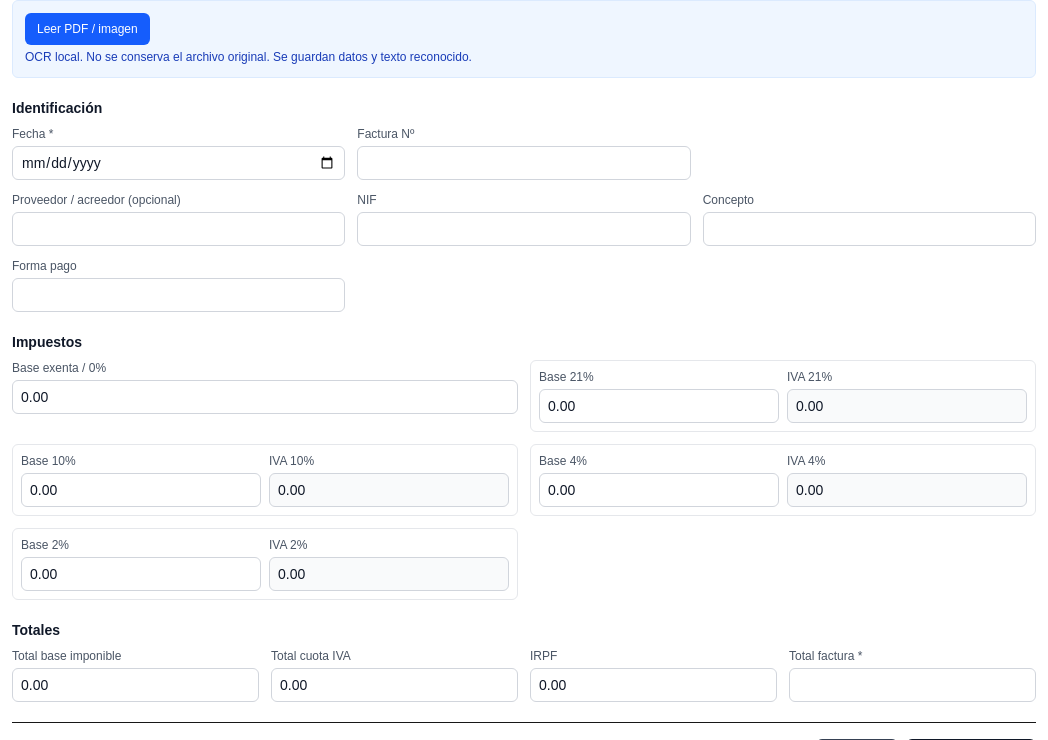
Test: AccountingInvoiceForm › searches suppliers by name and fills the NIF when selected
Type "Candelas" into the dropdown labelled "Proveedor / acreedor (opcional)" at point(179, 229), box [12, 212, 345, 246]
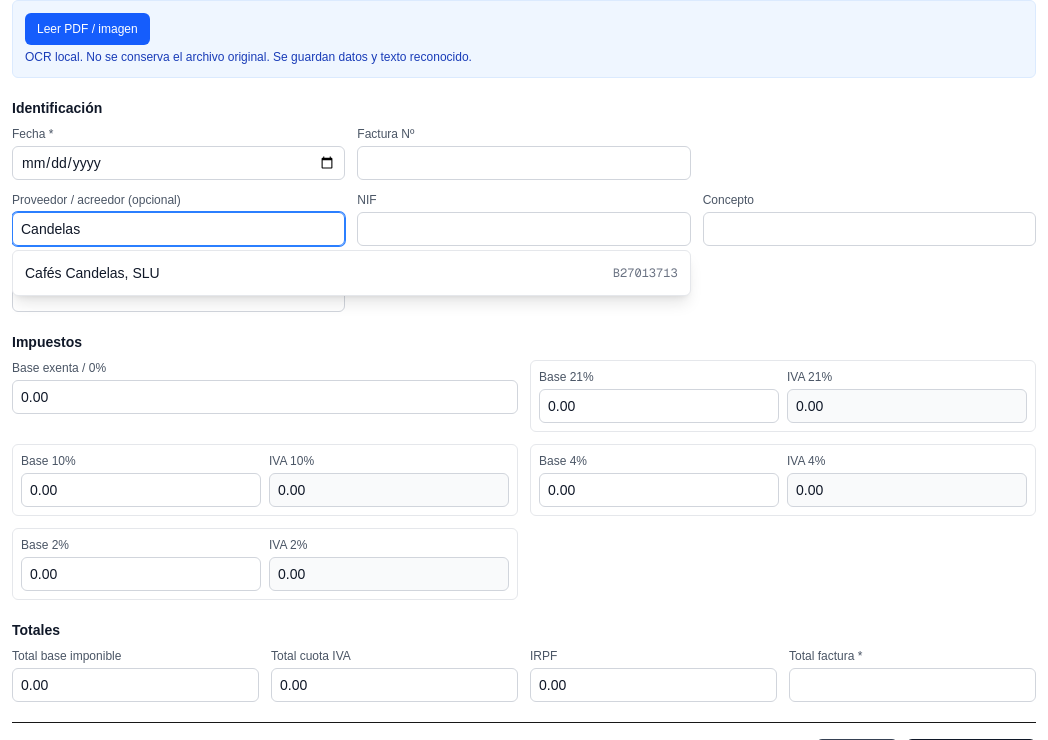
Click the option "Cafés Candelas, SLU B27013713" at point(92, 273), box [13, 255, 690, 291]
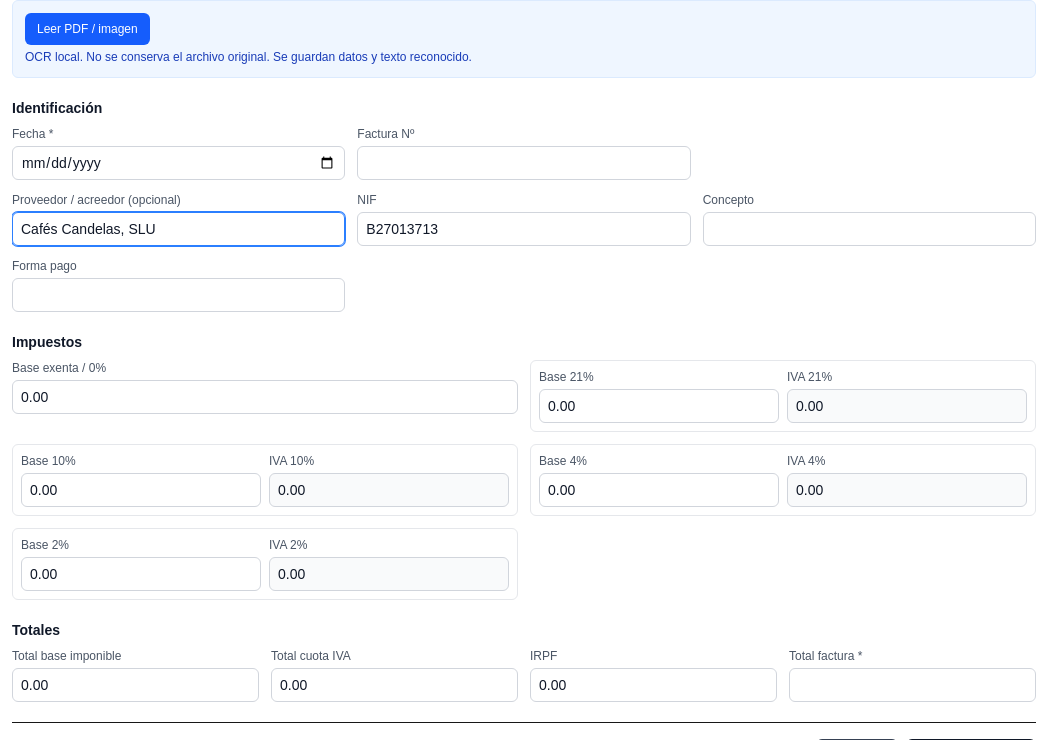
expect the dropdown labelled "Proveedor / acreedor (opcional)" holds "Cafés Candelas, SLU": met, box [12, 212, 345, 246]
expect the dropdown labelled "NIF" holds "B27013713": met, box [357, 212, 691, 246]
